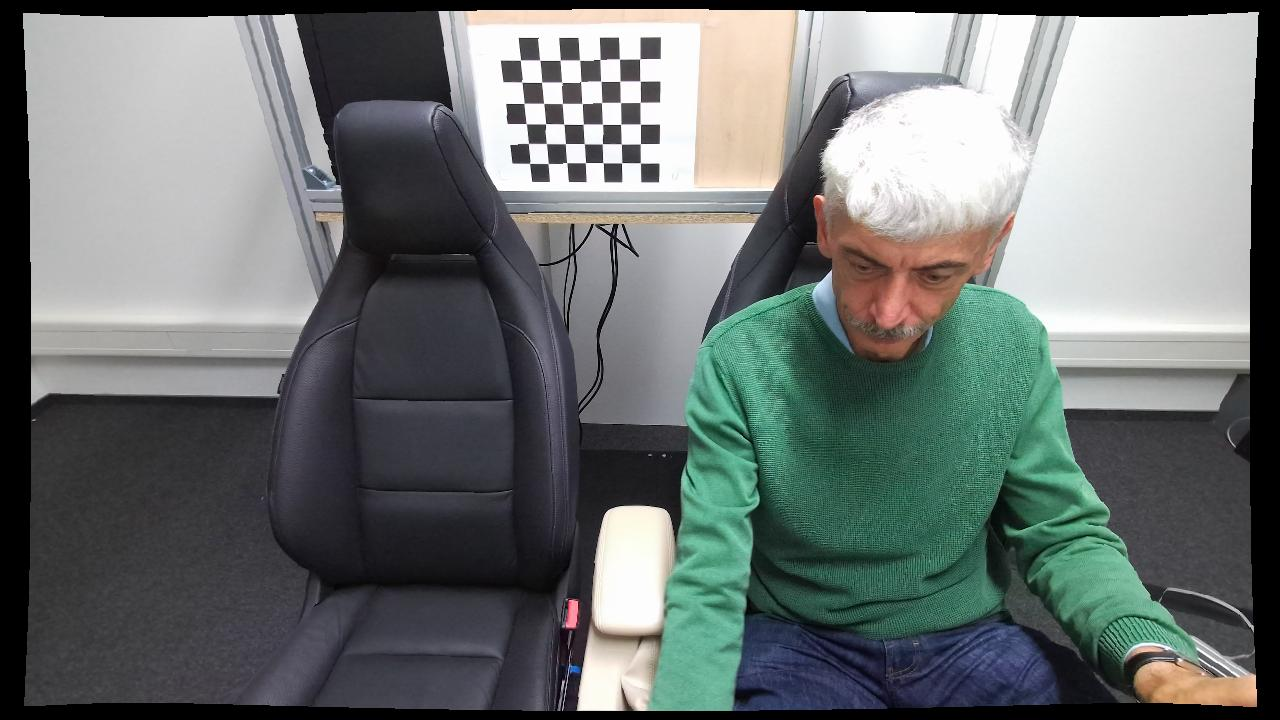Distracted: (646, 91, 1144, 712)
